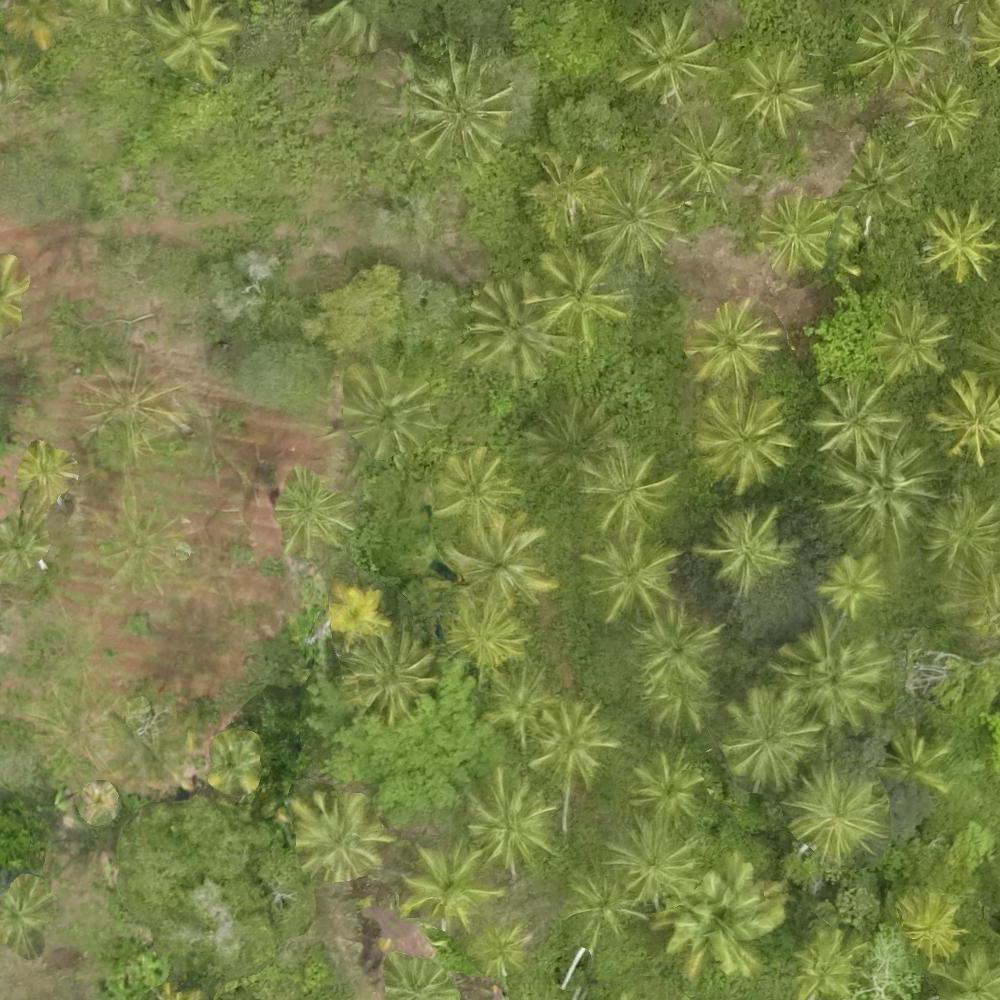Palm: (661, 861, 787, 978), (777, 621, 891, 726), (819, 443, 933, 546), (405, 55, 513, 160), (465, 282, 570, 378), (443, 515, 553, 605), (691, 392, 786, 492), (464, 769, 561, 866), (583, 164, 681, 260), (622, 9, 717, 104), (788, 767, 887, 858), (582, 443, 676, 538), (718, 692, 817, 782), (531, 249, 626, 341), (292, 793, 391, 880), (603, 815, 696, 902), (636, 609, 727, 697), (581, 529, 670, 618), (812, 380, 905, 463), (343, 631, 431, 718), (341, 367, 432, 451), (698, 504, 786, 589), (850, 6, 940, 89), (401, 844, 493, 925), (529, 394, 616, 478), (736, 44, 820, 130), (530, 704, 620, 783), (688, 306, 777, 383), (145, 2, 231, 81), (921, 200, 1000, 283), (668, 113, 746, 197), (560, 867, 642, 944), (928, 376, 1000, 463), (436, 449, 520, 521), (837, 140, 916, 216), (875, 299, 949, 378), (626, 748, 705, 822), (758, 195, 831, 273), (926, 491, 998, 568), (448, 598, 526, 668), (896, 881, 969, 955), (530, 146, 602, 218), (905, 78, 976, 146), (795, 932, 865, 1000), (818, 552, 890, 615), (467, 919, 529, 979), (205, 733, 262, 791)
